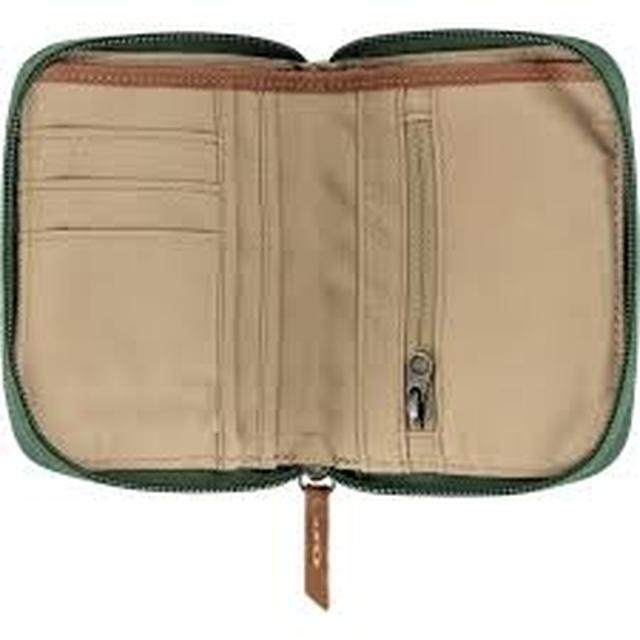wallet: (7, 12, 627, 530)
